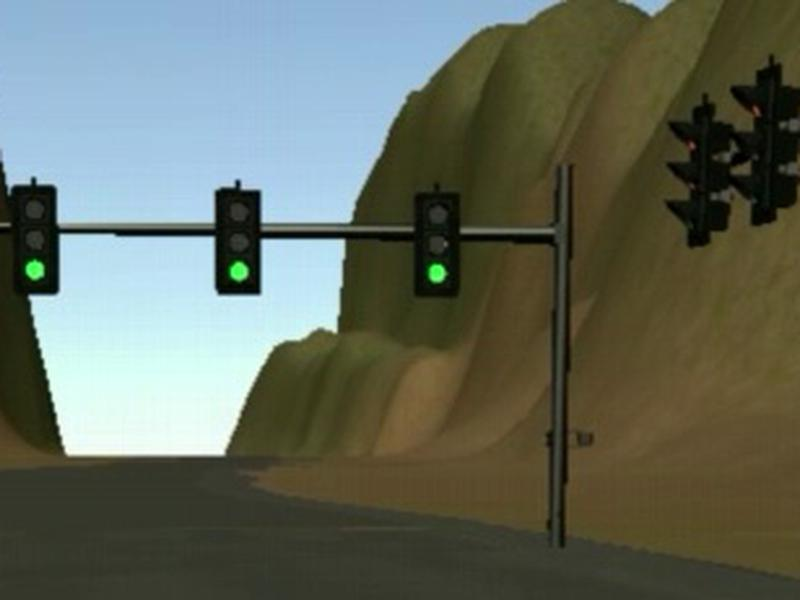Green: (10, 184, 60, 297), (212, 188, 261, 295), (413, 191, 461, 298)
